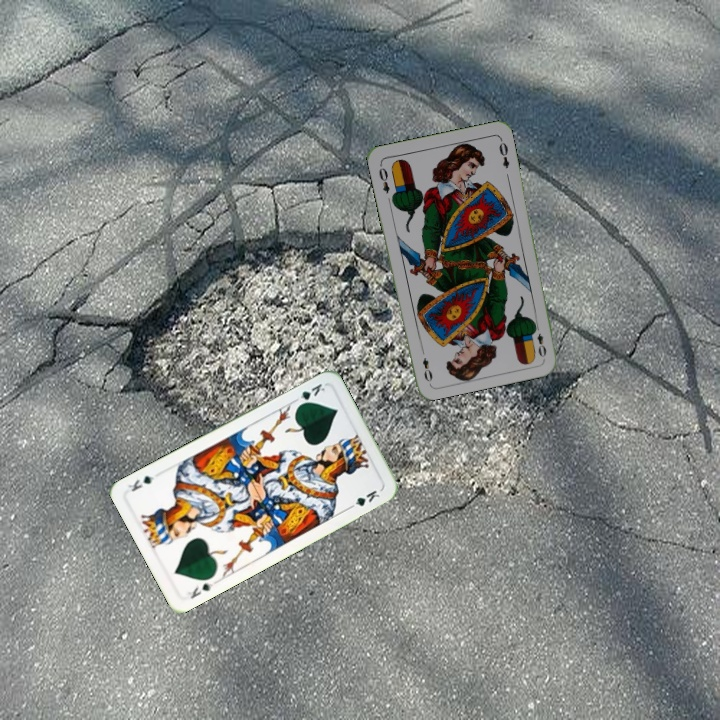EO: (530, 320, 549, 360), (375, 160, 392, 196)
GK: (290, 379, 328, 409), (183, 579, 216, 602)
